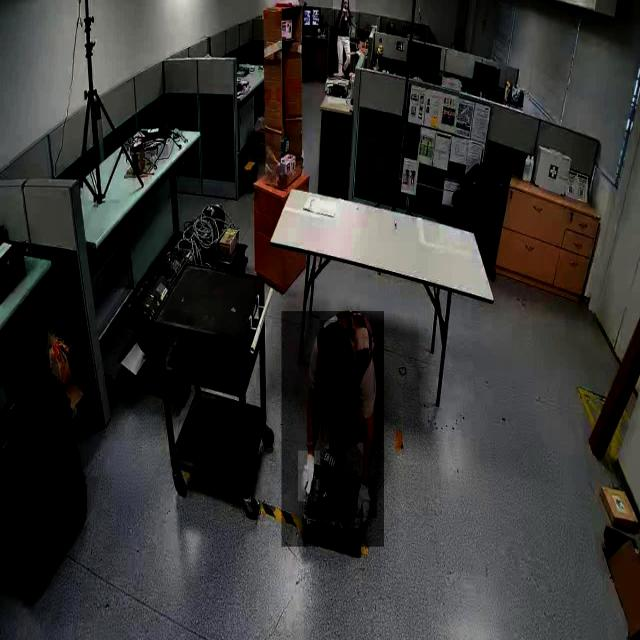hand_glove: (346, 479, 376, 519), (298, 451, 320, 502)
head_nohelmet: (319, 320, 352, 368)
person: (281, 311, 384, 548), (333, 0, 356, 77)
